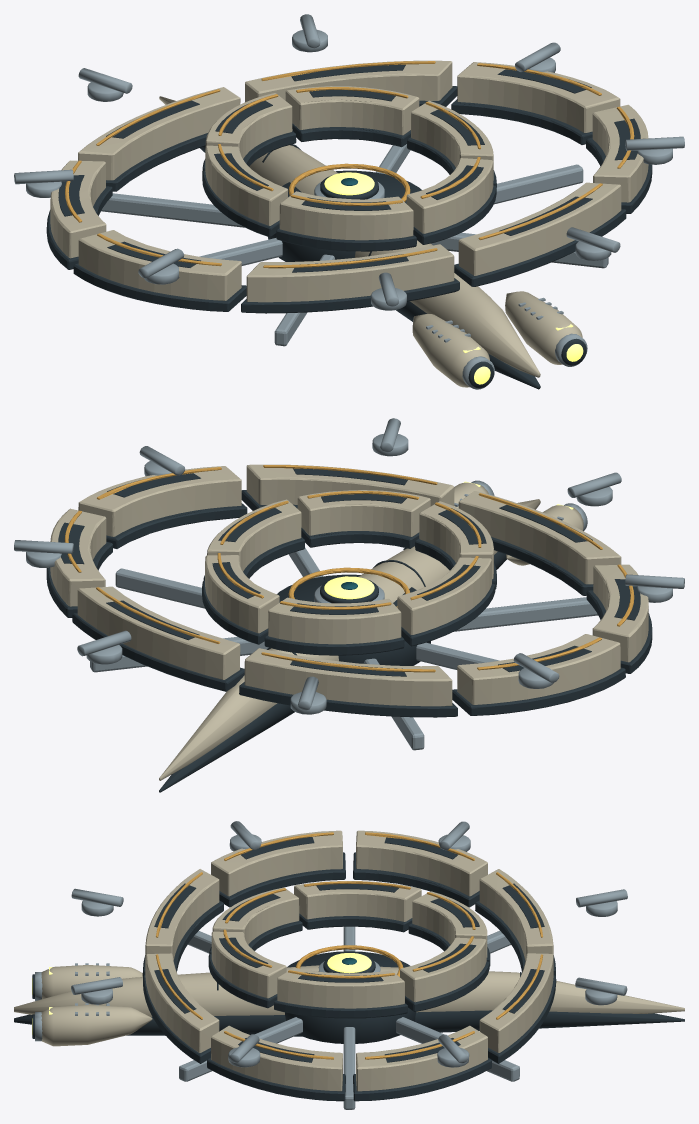
The model's file is boss-6-p2.glb.
The picture shows the model from 3 angles, top to bottom: view 1: azimuth 30°, elevation 25°; view 2: azimuth 150°, elevation 25°; view 3: azimuth 270°, elevation 25°; orthographic projection. The views are drawn at different scales.
Visible parts, largest first — view 1: SM_Rotor0, SM_Rotor1, SM_Hull, SM_Weapon_Right, SM_Engine_Right, SM_Engine_Left; view 2: SM_Rotor0, SM_Rotor1, SM_Hull, SM_Weapon_Right, SM_Engine_Left; view 3: SM_Rotor0, SM_Rotor1, SM_Hull, SM_Weapon_Right, SM_Engine_Right, SM_Engine_Left.
Part boxes in pixels (<box>): SM_Rotor0: <box>46,60,652,313</box>; SM_Rotor1: <box>202,86,496,251</box>; SM_Hull: <box>101,96,608,389</box>; SM_Weapon_Right: <box>14,14,684,310</box>; SM_Engine_Right: <box>505,291,587,366</box>; SM_Engine_Left: <box>412,314,494,389</box>; SM_Rotor0: <box>46,464,652,717</box>; SM_Rotor1: <box>202,490,496,655</box>; SM_Hull: <box>90,499,597,792</box>; SM_Weapon_Right: <box>14,418,684,714</box>; SM_Engine_Left: <box>506,503,587,565</box>; SM_Rotor0: <box>142,830,556,1101</box>; SM_Rotor1: <box>208,881,490,1018</box>; SM_Hull: <box>14,926,684,1109</box>; SM_Weapon_Right: <box>71,821,627,1067</box>; SM_Engine_Right: <box>32,1003,152,1046</box>; SM_Engine_Left: <box>32,963,142,1000</box>.
Bounding box in the file's own units: 8.68 × 1.74 × 10.2.
